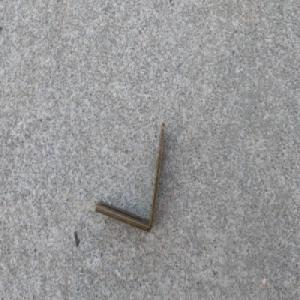MetalPart: (93, 120, 167, 233)
